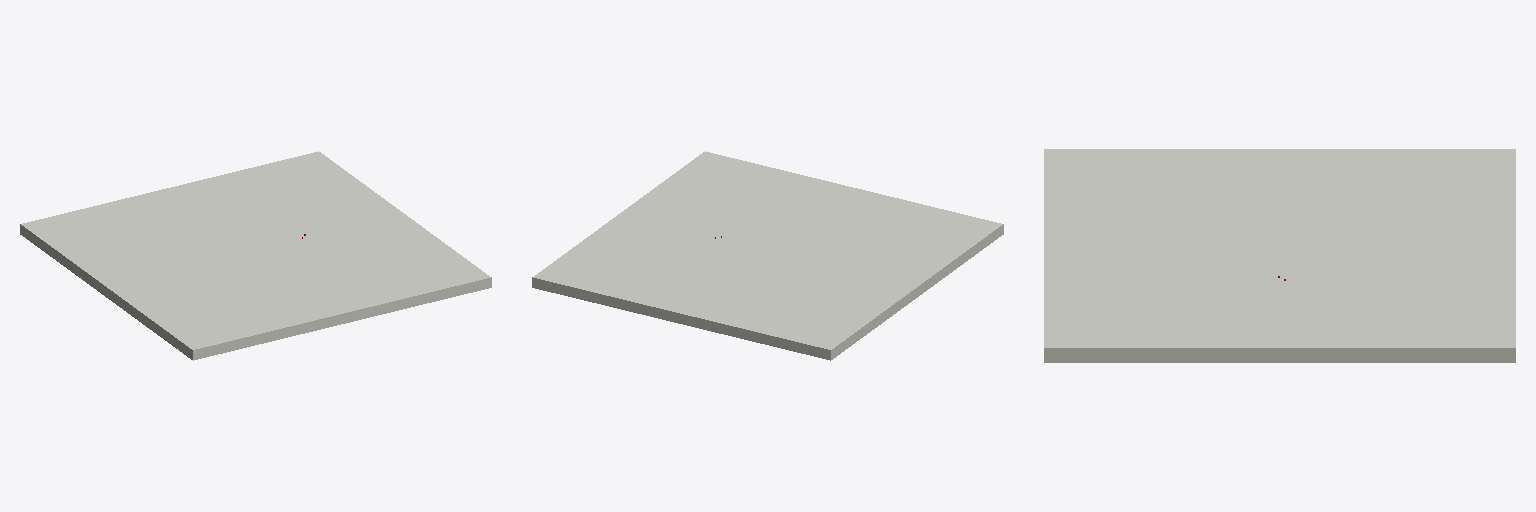
The robot description file, URDF, robot "env":
<?xml version="1.0"?>
<robot name="env">
  <link name="env_link">
    <inertial><mass value="0.1"/><inertia ixx="1e-4" ixy="0" ixz="0" iyy="1e-4" iyz="0" izz="1e-4"/></inertial>
    <collision><origin xyz="0 0 -0.06" rpy="0 -0 0"/><geometry><box size="3 3 0.1"/></geometry></collision>
    <collision><origin xyz="0.51 0.031 0.01" rpy="0 -0 0"/><geometry><cylinder radius="0.005" length="0.015"/></geometry></collision>
    <collision><origin xyz="0.467 -0.005 0.01" rpy="0 -0 0"/><geometry><cylinder radius="0.005" length="0.015"/></geometry></collision>
    <visual><origin xyz="0 0 -0.06" rpy="0 -0 0"/><geometry><box size="3 3 0.1"/></geometry><material name="env_link_0"><color rgba="0.85 0.85 0.82 0.35"/></material></visual>
    <visual><origin xyz="0.51 0.031 0.01" rpy="0 -0 0"/><geometry><cylinder radius="0.005" length="0.015"/></geometry><material name="env_link_1"><color rgba="1 0 0 1"/></material></visual>
    <visual><origin xyz="0.467 -0.005 0.01" rpy="0 -0 0"/><geometry><cylinder radius="0.005" length="0.015"/></geometry><material name="env_link_2"><color rgba="1 0 0 1"/></material></visual>
  </link>
</robot>

--- Render facts (derived) ---
3 views of the same robot in one strip: view 1: azimuth 30°, elevation 25°; view 2: azimuth 150°, elevation 25°; view 3: azimuth 270°, elevation 25° (orthographic).
Model env with 1 links and 0 joints (none), rooted at env_link, posed all joints at 0.
Links seen in each view (by area): view 1: env_link; view 2: env_link; view 3: env_link.
Link boxes in pixels (<box>): env_link: <box>20,151,491,360</box>; env_link: <box>532,151,1003,360</box>; env_link: <box>1044,149,1515,362</box>.
Bounding box of the posed robot: 3 × 3 × 0.1275 m (x, y, z).
Geometry: primitives only (box / cylinder / sphere), no mesh files.
